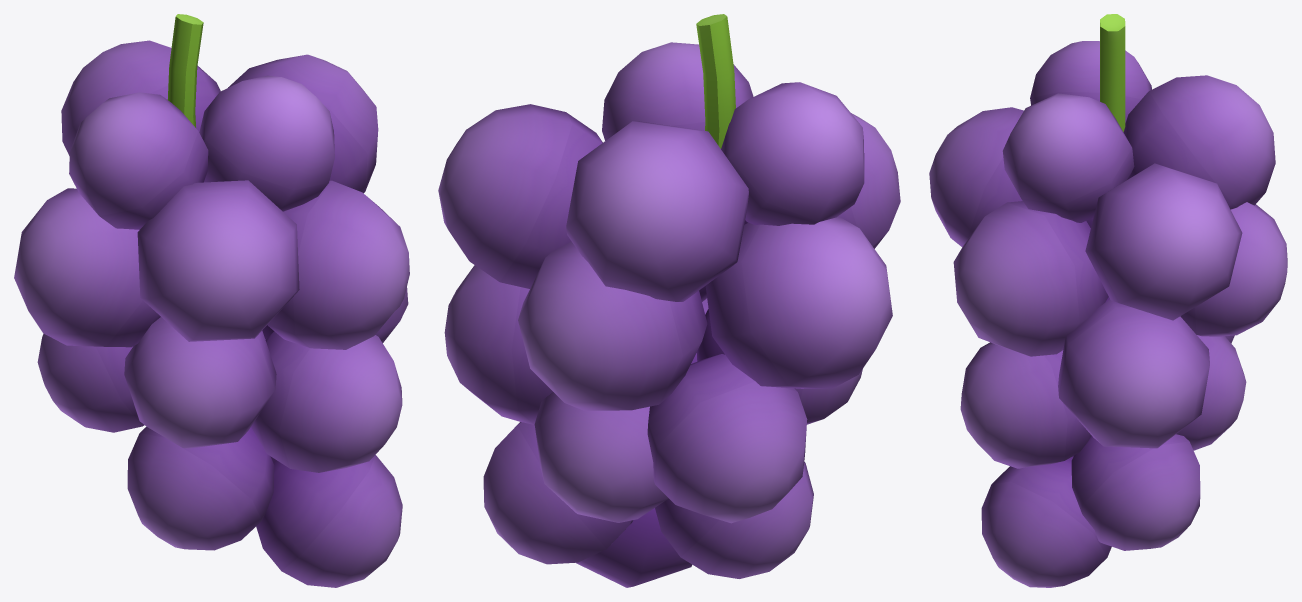
File: grape.FBX
3 views of the same model, side by side, from view 1: azimuth 30°, elevation 25°; view 2: azimuth 150°, elevation 25°; view 3: azimuth 270°, elevation 25° (orthographic). The views are drawn at different scales.
Parts seen in each view (by area): view 1: grape; view 2: grape; view 3: grape.
Part boxes in pixels (bbox=[...]): grape: bbox=[14, 14, 409, 587]; grape: bbox=[438, 14, 900, 587]; grape: bbox=[929, 14, 1287, 587].
Bounding box in the file's own units: 31.35 × 44.65 × 28.07.
